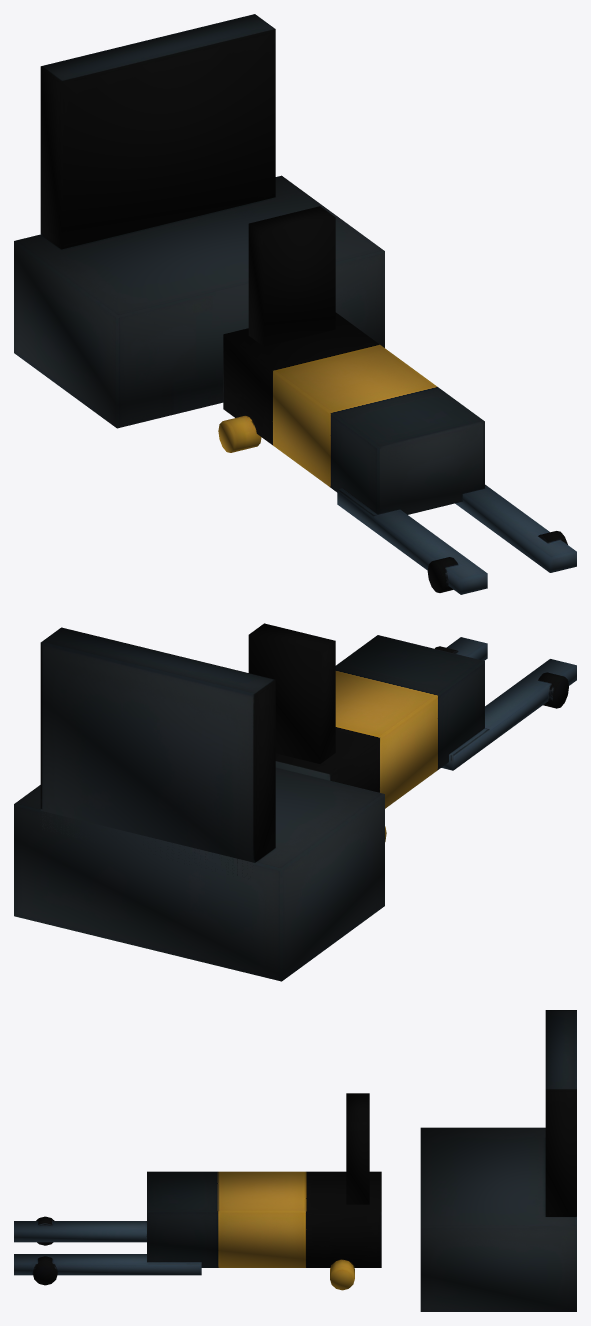
The model's file is yard-pallet-charger-body-tripo-original.glb.
The picture shows the model from 3 angles, top to bottom: view 1: azimuth 30°, elevation 25°; view 2: azimuth 150°, elevation 25°; view 3: azimuth 270°, elevation 25°; orthographic projection. The views are drawn at different scales.
Visible parts, largest first — view 1: Authored_surface_048; view 2: Authored_surface_048; view 3: Authored_surface_048.
Part boxes in pixels (x1,y1,x2,y2): Authored_surface_048: (14,14,576,594); Authored_surface_048: (14,623,576,981); Authored_surface_048: (14,1010,576,1311).
Bounding box in the file's own units: 0.4167 × 0.4167 × 1.
Materials: 1 (1 with a texture image).
